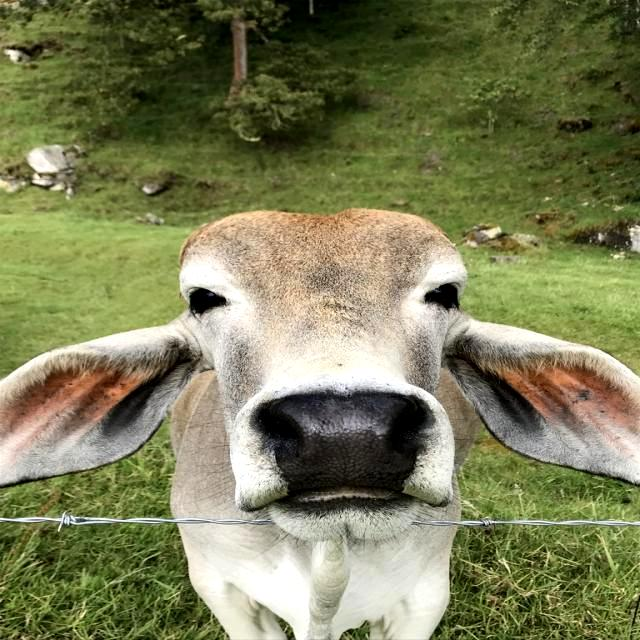COW: (0, 210, 640, 640)
